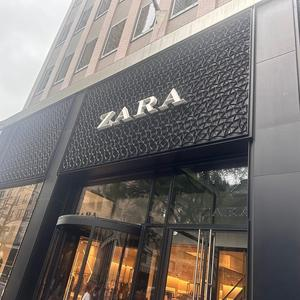zara: (83, 81, 193, 133)
